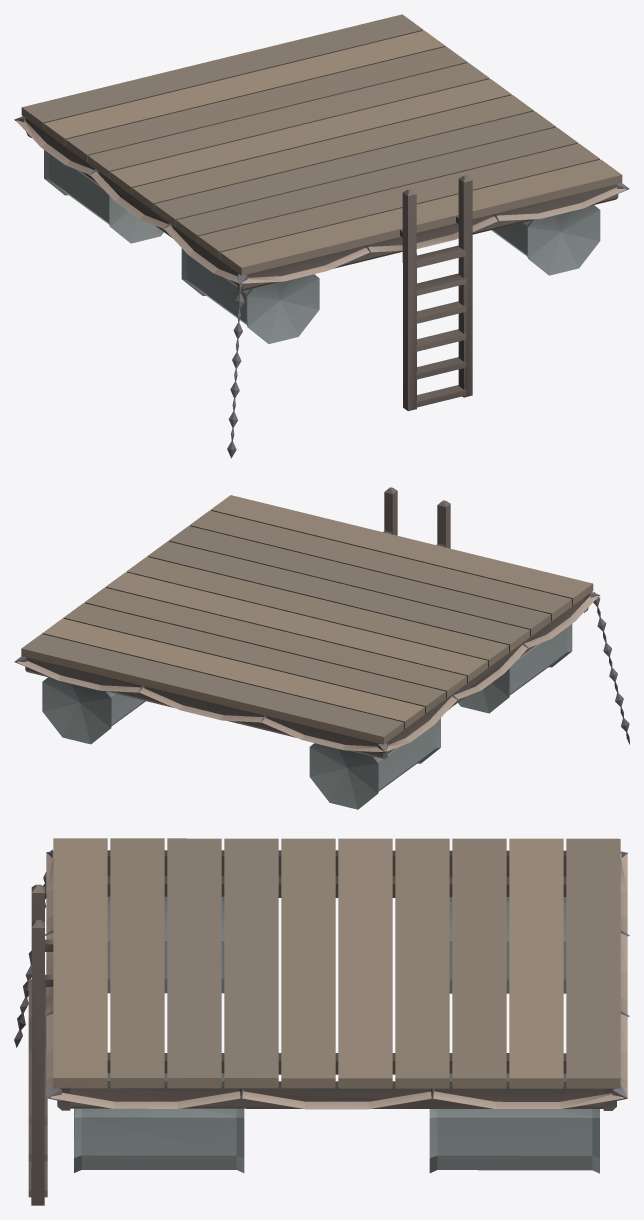
The model's file is raft.glb.
The picture shows the model from 3 angles, top to bottom: view 1: azimuth 30°, elevation 25°; view 2: azimuth 150°, elevation 25°; view 3: azimuth 270°, elevation 25°; orthographic projection. The views are drawn at different scales.
Parts seen in each view (by area): view 1: raft.001; view 2: raft.001; view 3: raft.001.
Boxes of the visible parts, left/top/right/bottom form: raft.001: left=14, top=14, right=629, bottom=458; raft.001: left=14, top=487, right=629, bottom=809; raft.001: left=14, top=838, right=629, bottom=1205.
Bounding box in the file's own units: 4.23 × 2.14 × 4.23.
